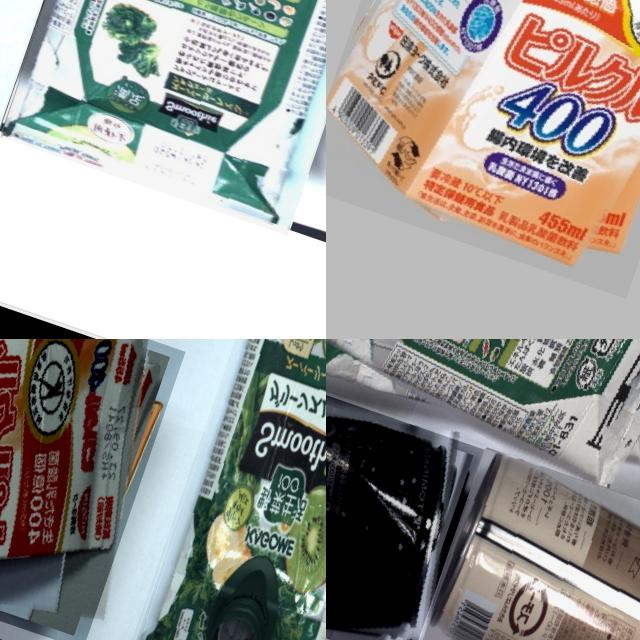Aluminium Foil: (326, 0, 640, 298), (0, 0, 326, 235), (124, 339, 326, 640), (0, 339, 185, 640), (326, 339, 640, 504)
Can: (413, 446, 640, 640), (326, 372, 483, 640)
